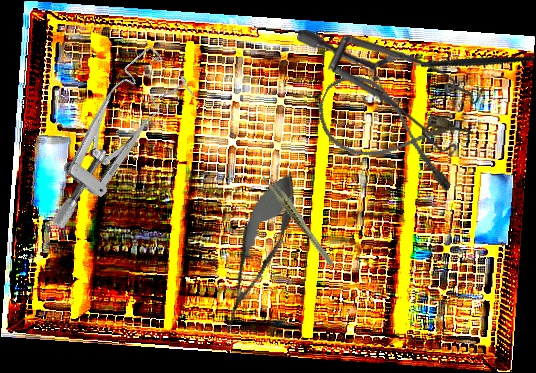Cannula: (306, 65, 477, 197)
Chopper: (399, 18, 536, 112)
Micro Scissor: (207, 164, 309, 339)
Speculum: (7, 42, 208, 232), (295, 29, 485, 158)
Tissue Forceps: (260, 162, 335, 276)
